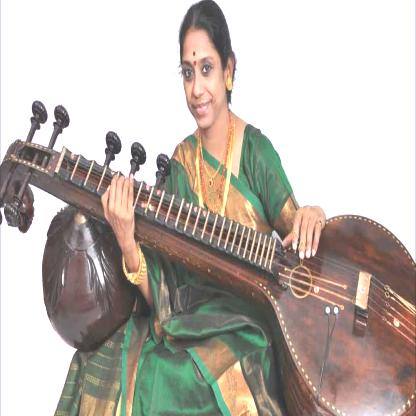Veena: (177, 203, 416, 406)
